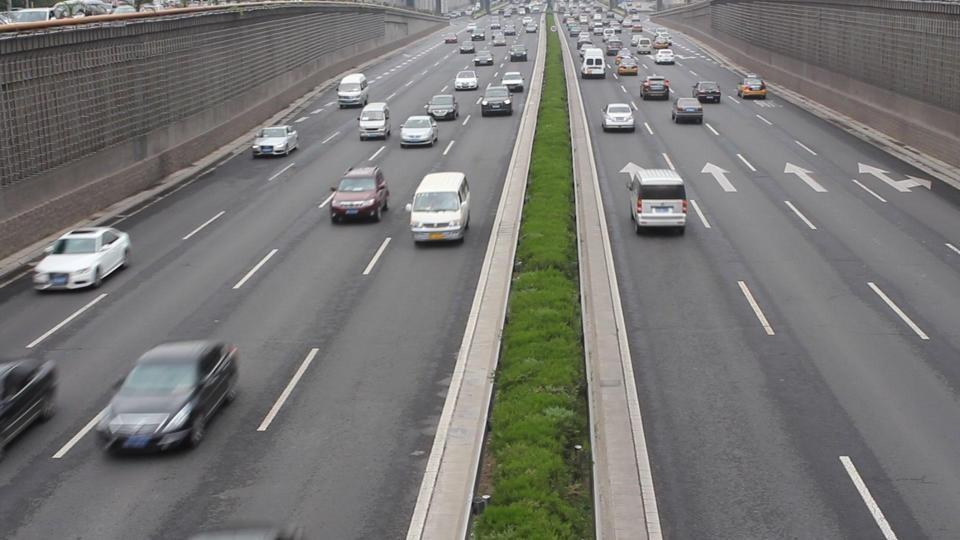car: (94, 339, 242, 455), (30, 224, 133, 292), (0, 357, 61, 454), (408, 171, 472, 246), (327, 164, 391, 225), (250, 126, 299, 158), (357, 102, 392, 141), (399, 114, 439, 148), (337, 73, 369, 109), (478, 86, 513, 117), (601, 102, 636, 133), (425, 92, 460, 122), (672, 96, 705, 124), (639, 76, 671, 101), (737, 75, 768, 99), (693, 79, 722, 104), (453, 68, 479, 91), (501, 70, 524, 93), (474, 50, 495, 66)
